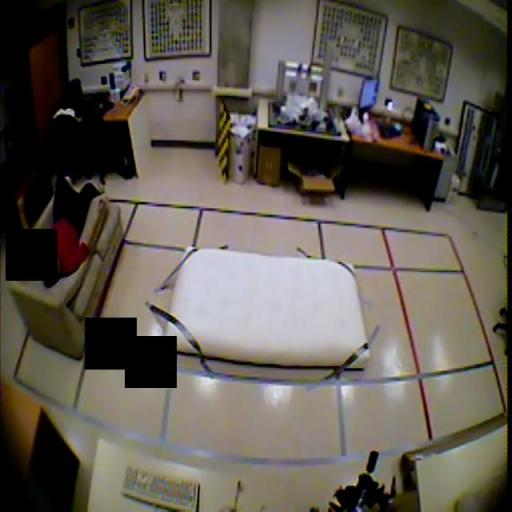Fall: (17, 173, 106, 289)
